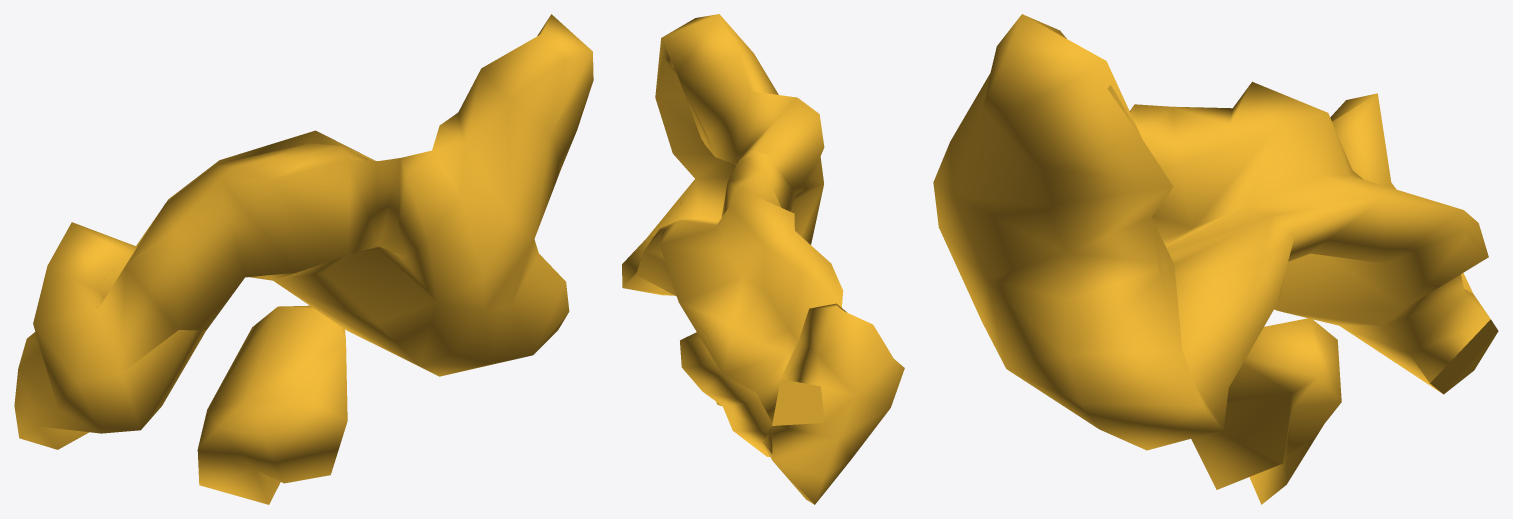
The model's file is nervoso-lunate-sulcus-l.glb.
The picture shows the model from 3 angles, left to right: view 1: azimuth 30°, elevation 25°; view 2: azimuth 150°, elevation 25°; view 3: azimuth 270°, elevation 25°; orthographic projection. The views are drawn at different scales.
Parts seen in each view (by area): view 1: Lunate sulcus.l; view 2: Lunate sulcus.l; view 3: Lunate sulcus.l.
Boxes of the visible parts, <box> form: Lunate sulcus.l: <box>14,14,593,504</box>; Lunate sulcus.l: <box>622,14,904,504</box>; Lunate sulcus.l: <box>933,14,1498,504</box>.
Size of the model in its own units: 0.0217 by 0.0241 by 0.021.
